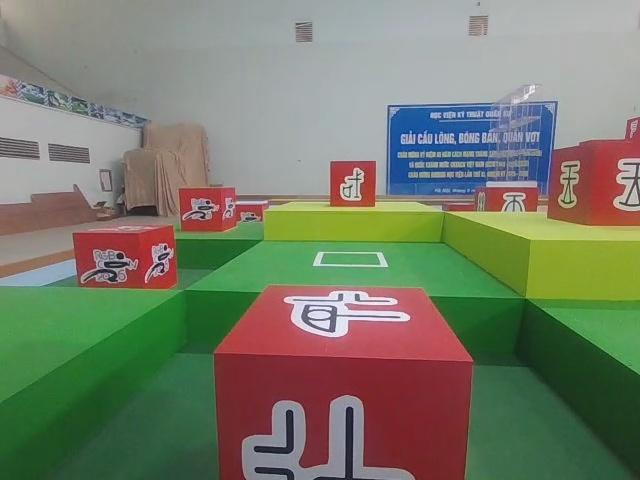R1: (69, 221, 179, 299), (176, 184, 239, 236)
R2 Real: (210, 279, 478, 480), (545, 139, 640, 229), (327, 158, 379, 210)
